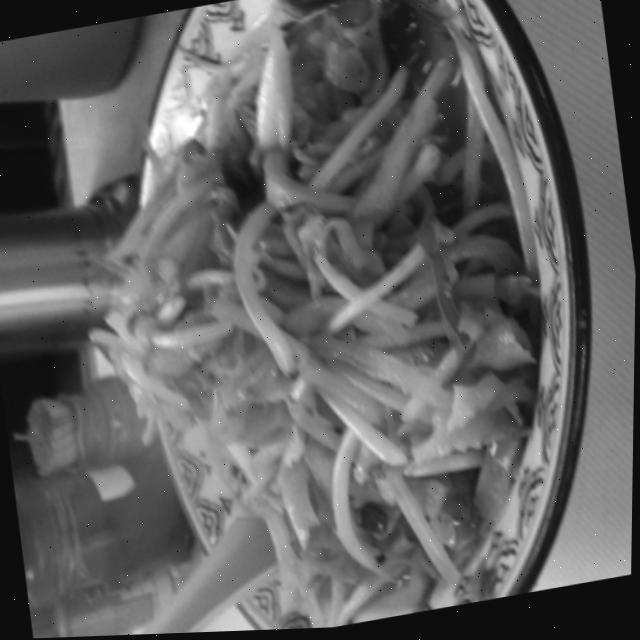鸡蛋料理: (19, 0, 440, 601)
